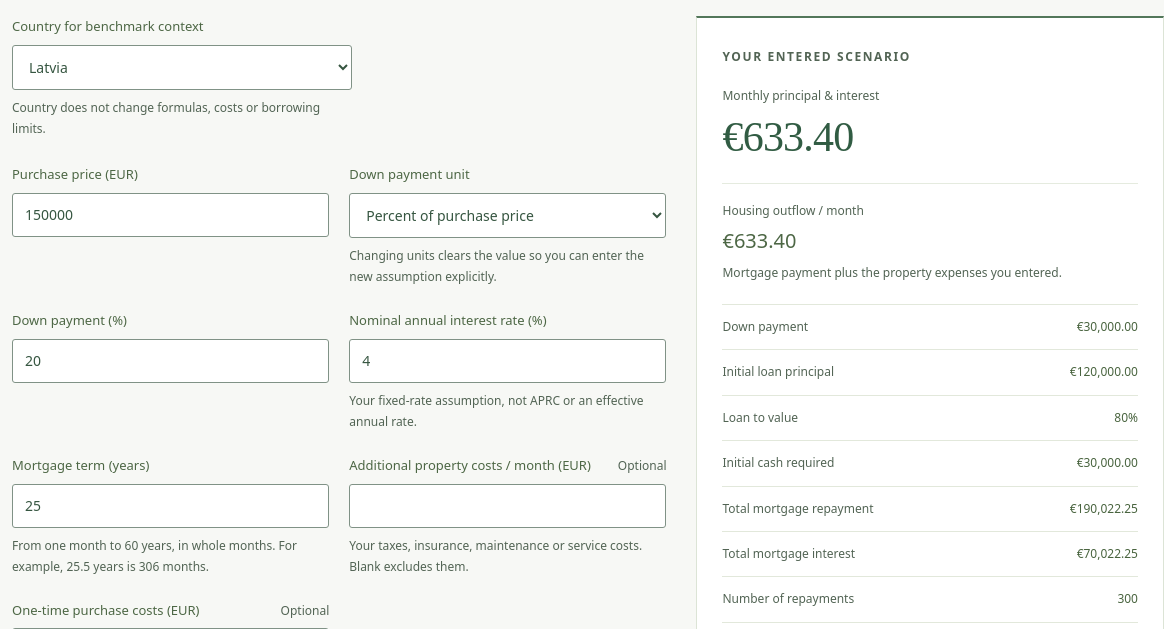
linked housing scenario › hides invalid results and associates the error with the field
(page scrolled)
Replace the text in the number field labelled "Nominal annual interest rate (%)" with "-1": (508, 360) [349,338,666,382]
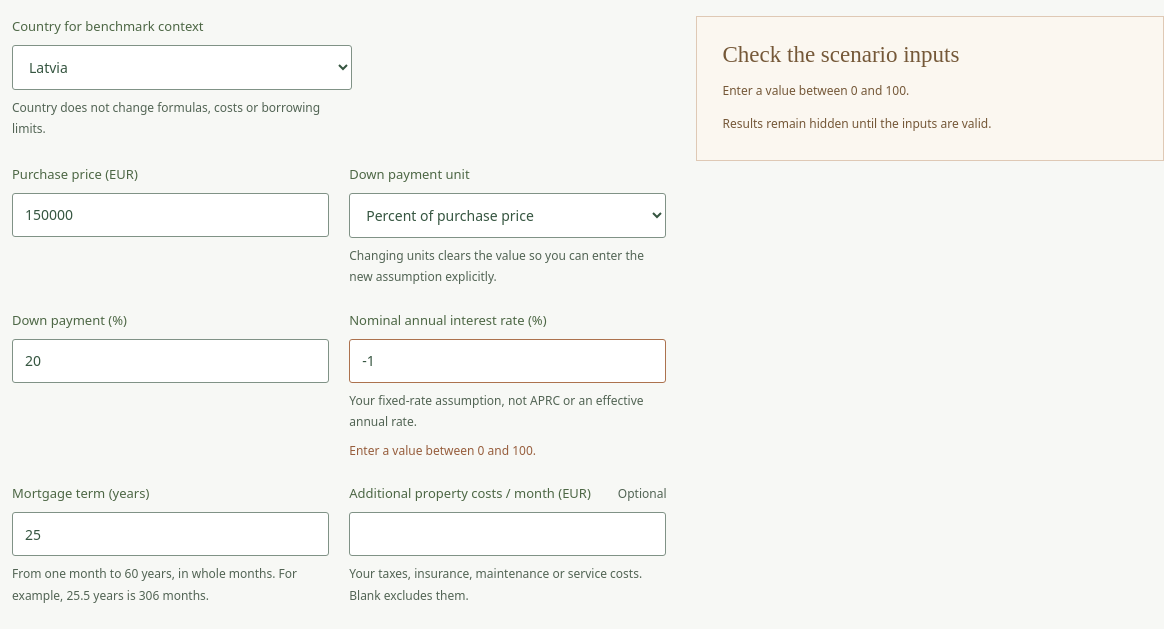
Now the message shows "Check the scenario inputs", box [722,42,960,67]
Replace the text in the number field labelled "Nominal annual interest rate (%)" with "4": (508, 360) [349,338,666,382]
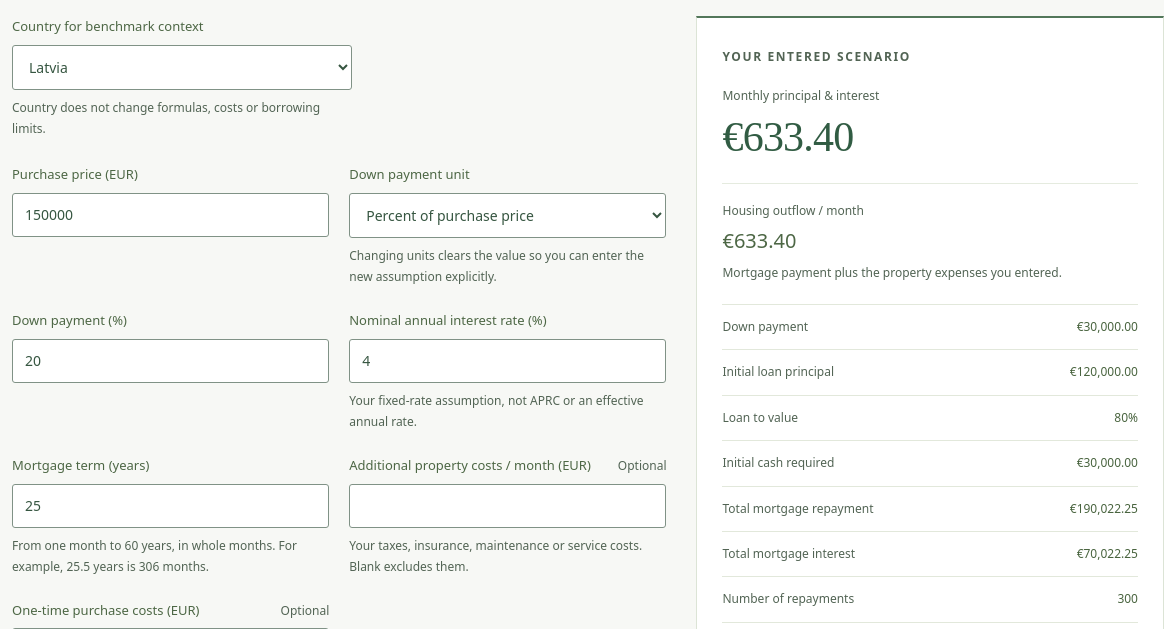
Clear the number field labelled "Purchase price (EUR)": (171, 214) [12,192,329,236]
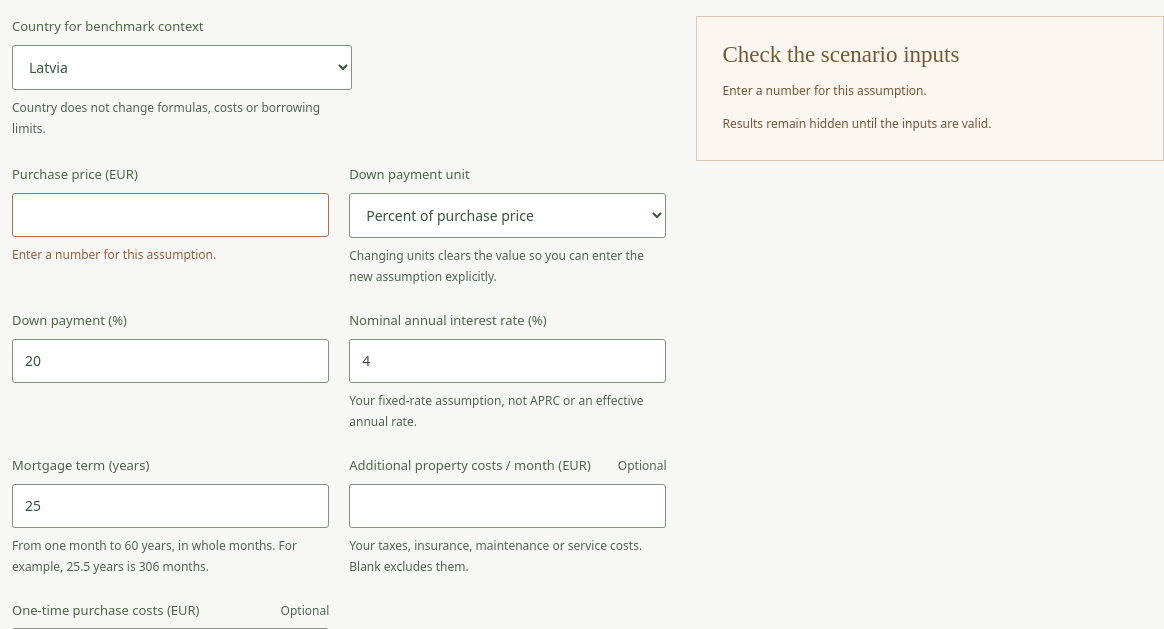
Now the message shows "Enter a number", box [722,82,927,99]
